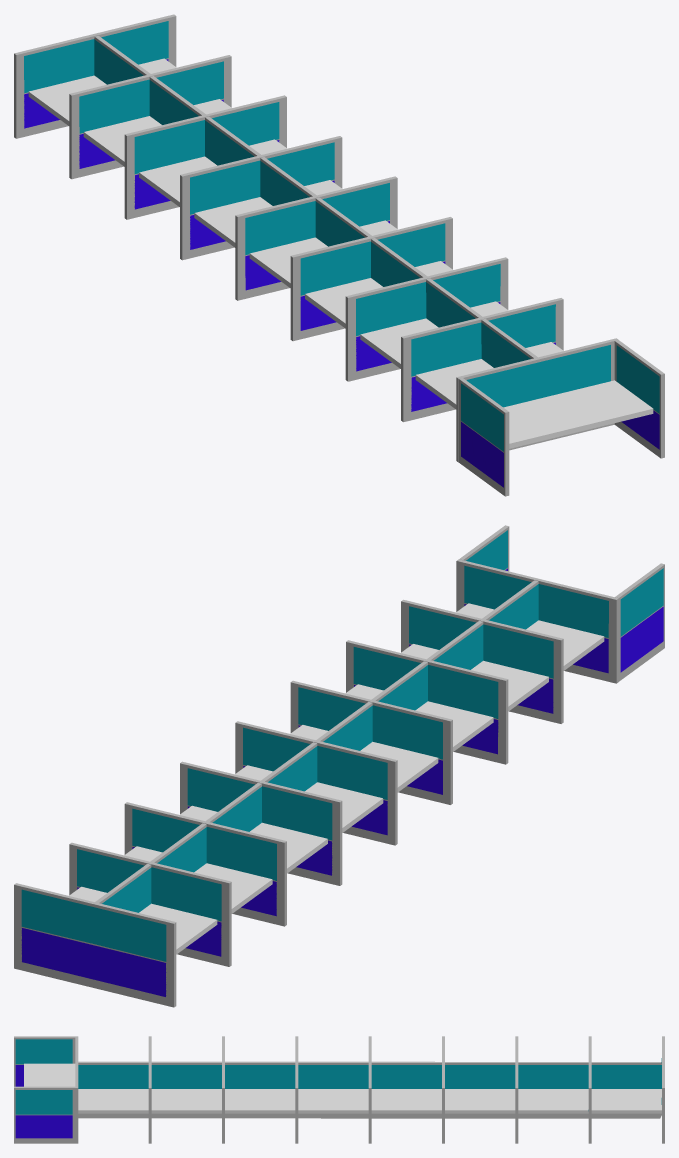
Rendered from CubiculosAgentes.fbx.
3 renders of one model, top to bottom at view 1: azimuth 30°, elevation 25°; view 2: azimuth 150°, elevation 25°; view 3: azimuth 270°, elevation 25°, orthographic. The views are drawn at different scales.
Visible parts, largest first — view 1: Cube; view 2: Cube; view 3: Cube.
Boxes of the visible parts, left/top/right/bottom form: Cube: left=14, top=14, right=664, bottom=496; Cube: left=14, top=525, right=664, bottom=1007; Cube: left=14, top=1036, right=664, bottom=1143.
Size of the model in its own units: 800 by 401 by 4249.
